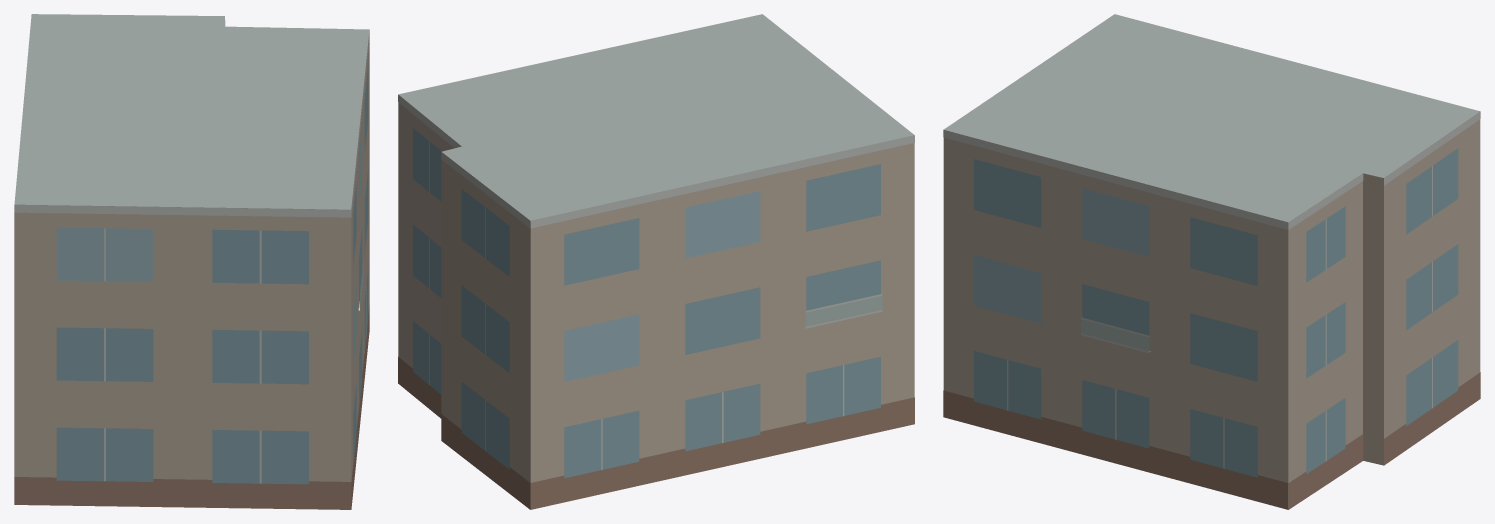
Rendered from survey-upis-32889862.glb.
3 renders of one model, left to right at view 1: azimuth 30°, elevation 25°; view 2: azimuth 150°, elevation 25°; view 3: azimuth 270°, elevation 25°, orthographic. The views are drawn at different scales.
Parts seen in each view (by area): view 1: survey-upis-32889862.tmp; view 2: survey-upis-32889862.tmp; view 3: survey-upis-32889862.tmp.
Boxes of the visible parts, box(x1,y1,x2,y2) form: survey-upis-32889862.tmp: box(14, 14, 369, 509); survey-upis-32889862.tmp: box(398, 14, 914, 509); survey-upis-32889862.tmp: box(943, 14, 1480, 509).
Bounding box in the file's own units: 14.23 × 9.15 × 15.5.
